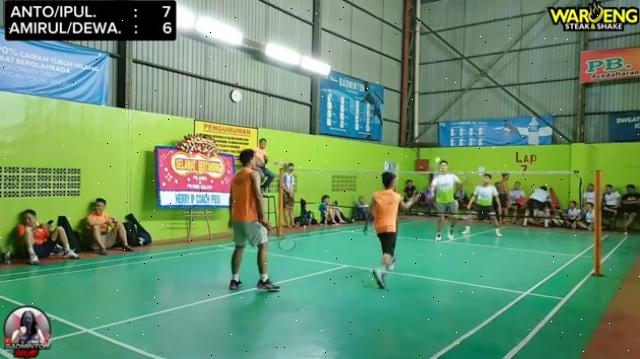Shuttlecock: (434, 155, 442, 165)
